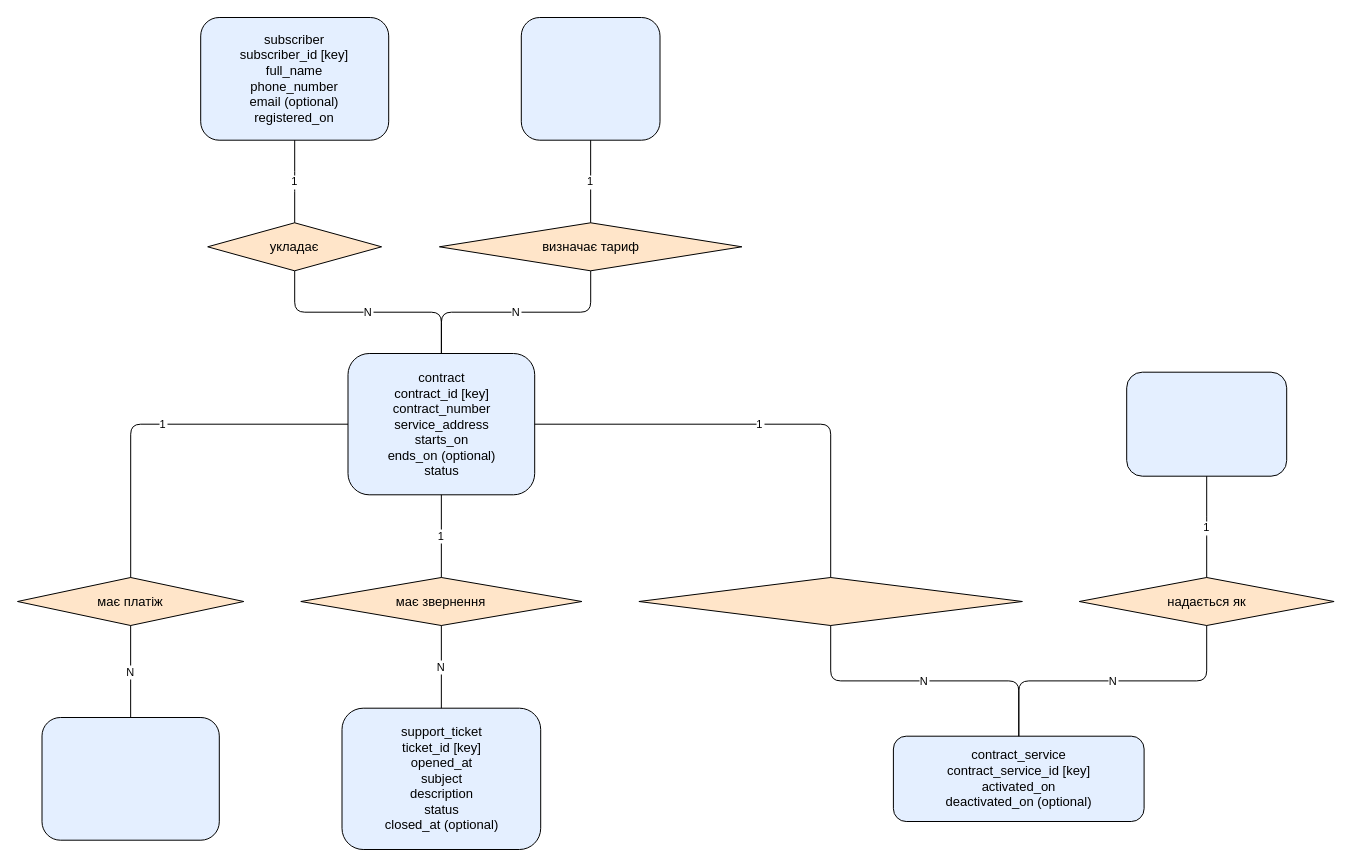
The diagram is 1352 pixels wide and 867 high, and some of its shapes have lost their labels. The shapes that lost their labels are listed below. From the top down, each one's centre as x and y in pixels, then its label:
the point at 590,78: tariff tariff_id [key] tariff_name monthly_fee speed_mbps is_active
the point at 1206,423: service service_id [key] service_name monthly_fee description
the point at 830,601: містить підключення
the point at 130,778: payment payment_id [key] paid_at amount payment_method reference_code
